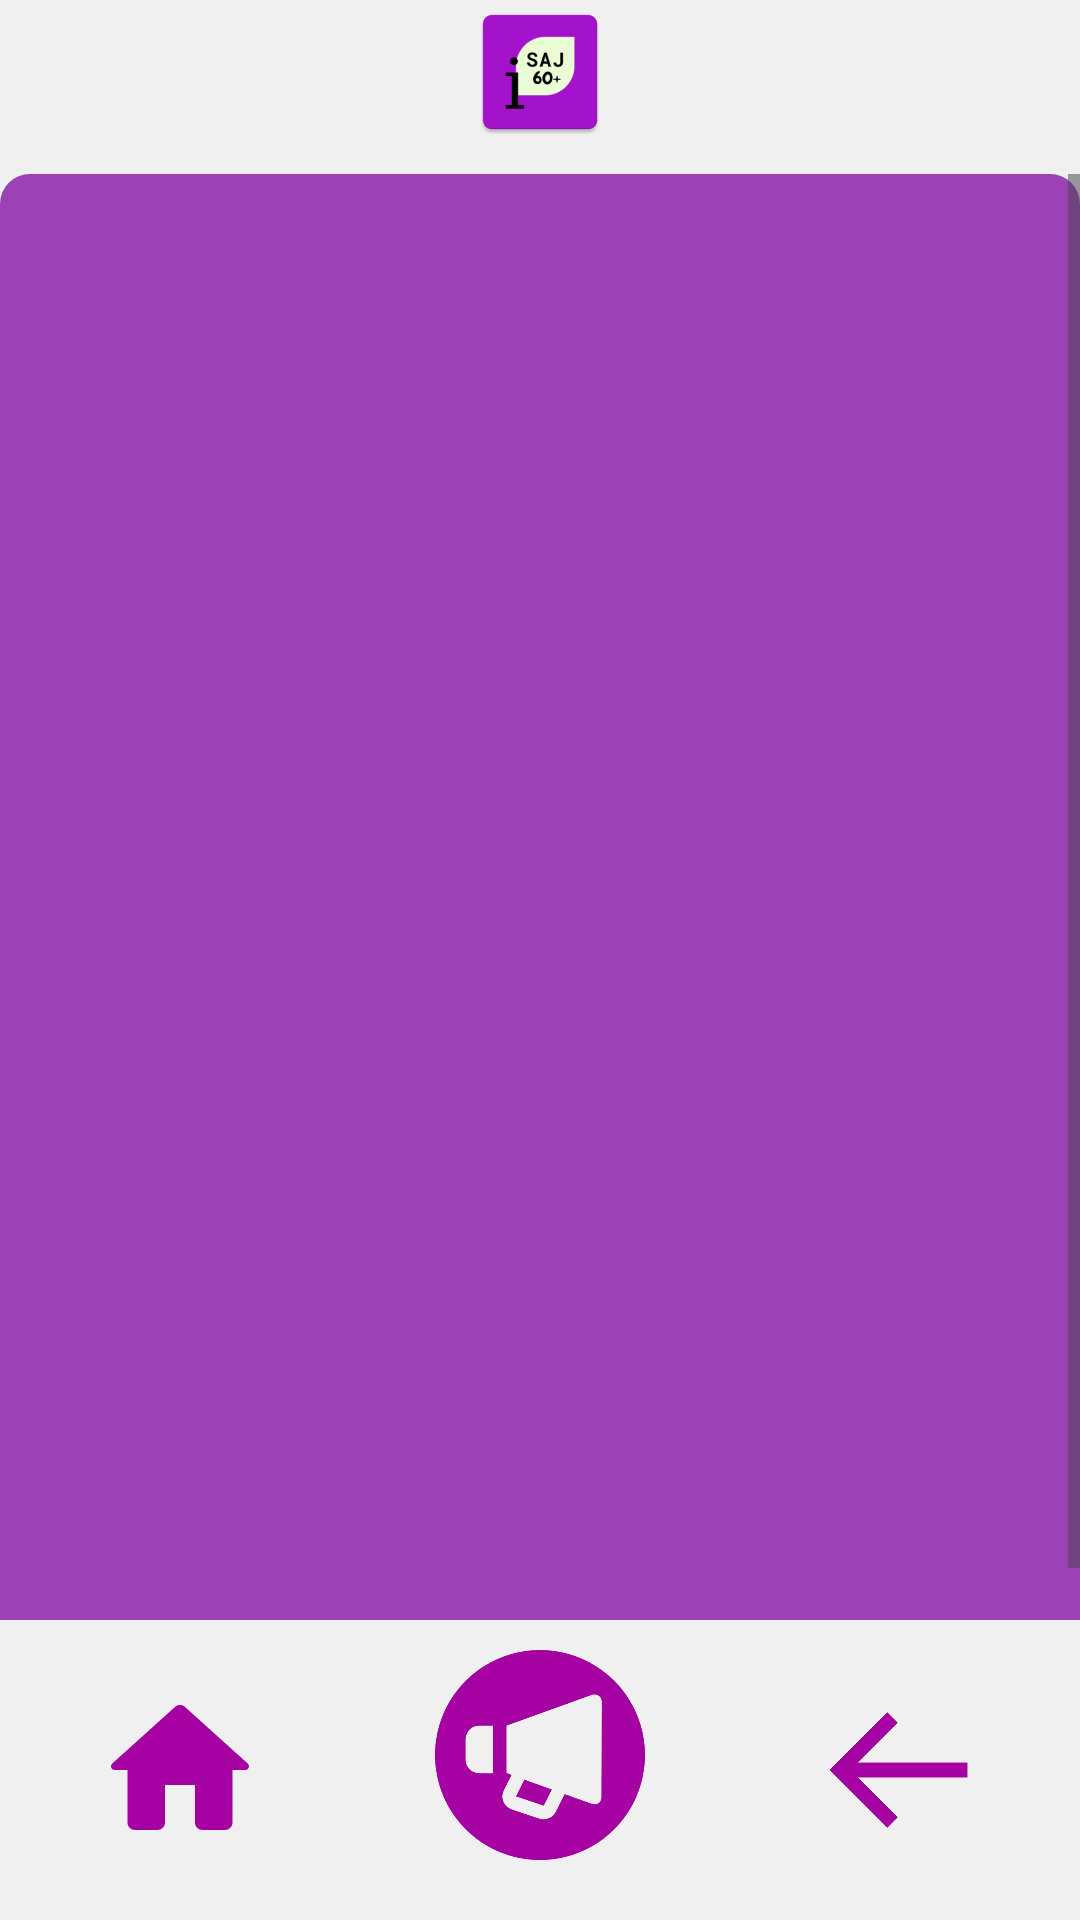

Icon click points for this 1080px×1920px phone screenshot, format (x,y):
arrow back: (899,1770)
home: (180,1767)
megaphone: (540,1755)
